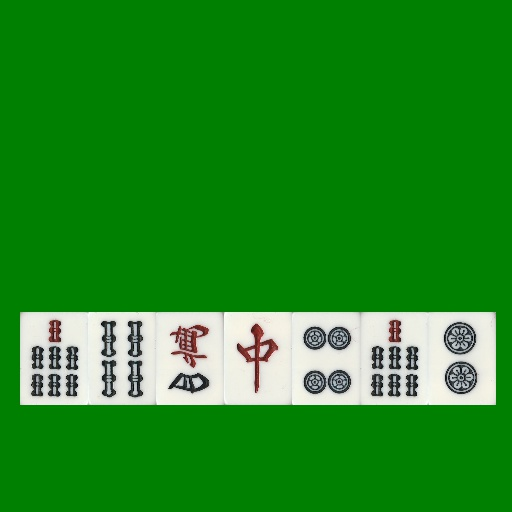2p: (428, 312, 496, 405)
4m: (156, 312, 224, 405)
4p: (292, 312, 360, 405)
4s: (88, 312, 156, 405)
7s: (20, 312, 88, 405), (360, 312, 428, 405)
tyun: (224, 312, 292, 405)
